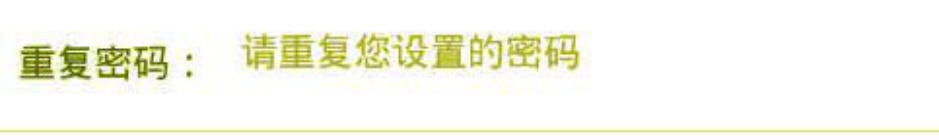EditText: (1, 1, 938, 139)
